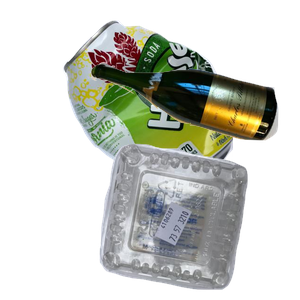glass: (88, 60, 300, 193)
metal: (60, 18, 300, 198)
plastic: (97, 141, 300, 300)
trash: (104, 152, 280, 300)
